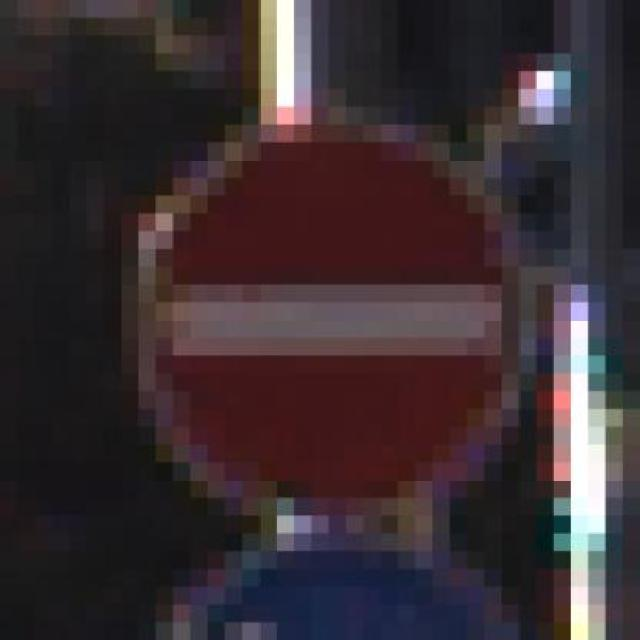B2: (140, 124, 520, 516)
